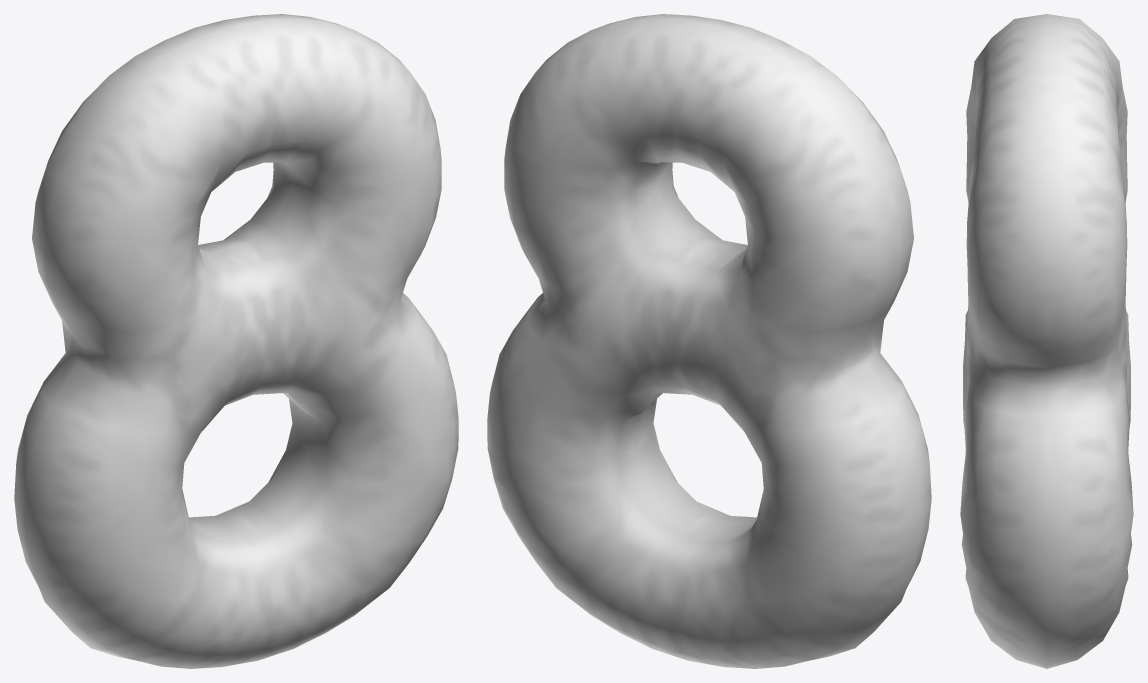
Rendered from LettersBalloon01_8.FBX.
The picture shows the model from 3 angles, left to right: view 1: azimuth 30°, elevation 25°; view 2: azimuth 150°, elevation 25°; view 3: azimuth 270°, elevation 25°; orthographic projection. The views are drawn at different scales.
Parts seen in each view (by area): view 1: LettersBalloon01_8; view 2: LettersBalloon01_8; view 3: LettersBalloon01_8.
Part boxes in pixels (x1=…): LettersBalloon01_8: x1=14, y1=14, x2=458, y2=668; LettersBalloon01_8: x1=487, y1=14, x2=931, y2=668; LettersBalloon01_8: x1=960, y1=14, x2=1133, y2=668.
Size of what is drawn, in the model's own units: 0.3409 by 0.487 by 0.1265.
